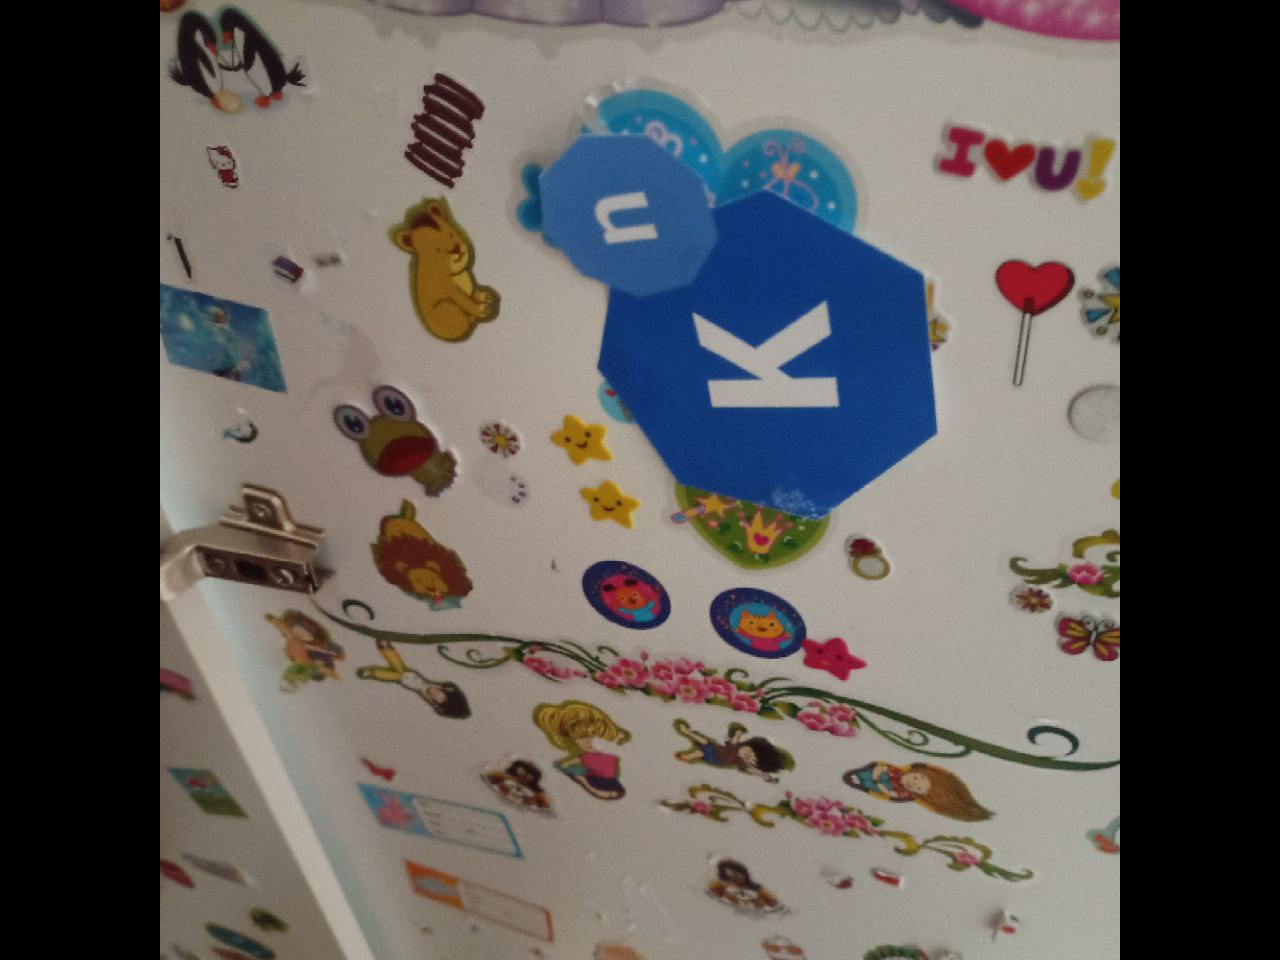knative: (540, 136, 939, 515)
